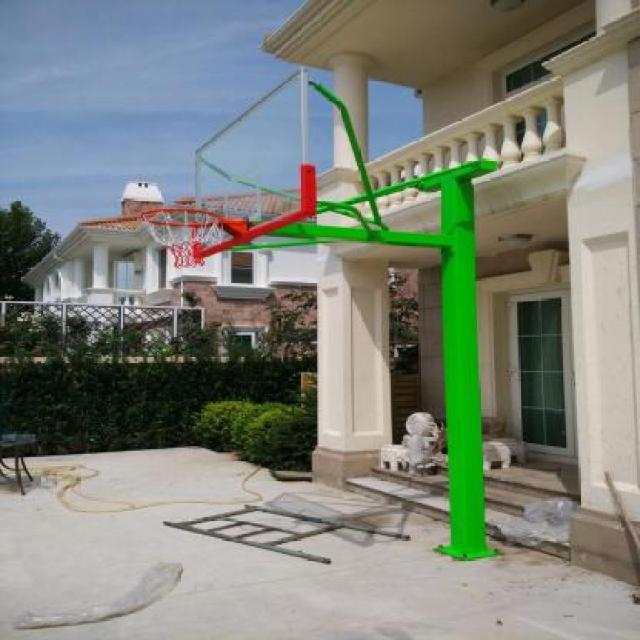rim: (140, 206, 226, 268)
